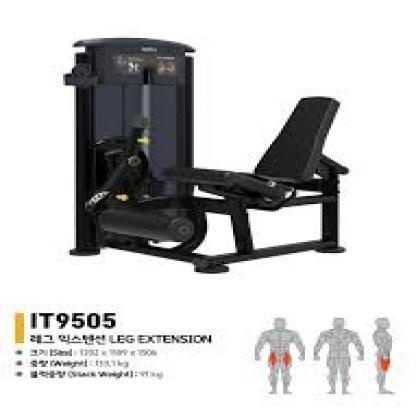leg extension: (51, 32, 357, 278)
